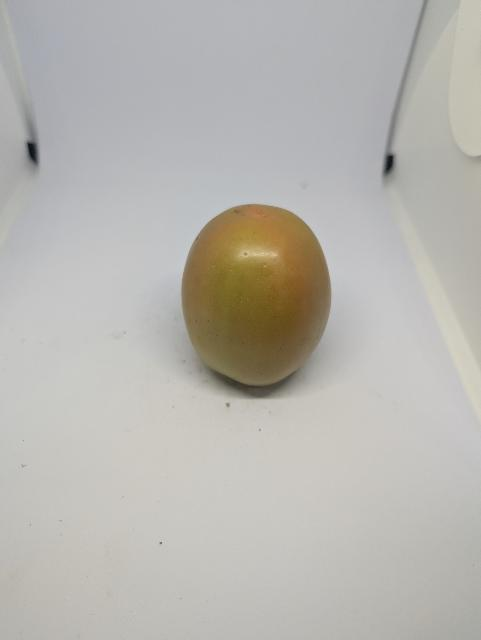breaker: (182, 204, 331, 386)
